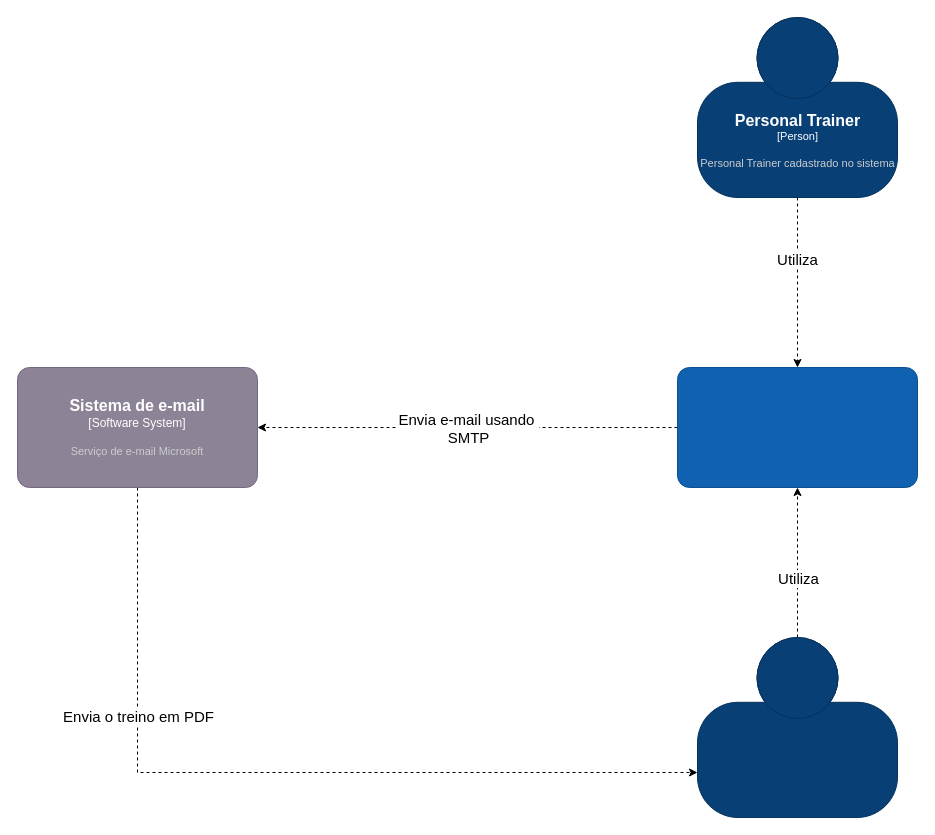
The diagram is 935 pixels wide and 835 high, and some of its shapes have lost their labels. The shapes that lost their labels are listed below. From the top down, each one's centre as x and y in pixels, then its label:
point (797, 427): Me Fit [Software System] Sistema de gestão de treinos e avaliações físicas
point (797, 727): Aluno [Person] Aluno cadastrado por um professor
